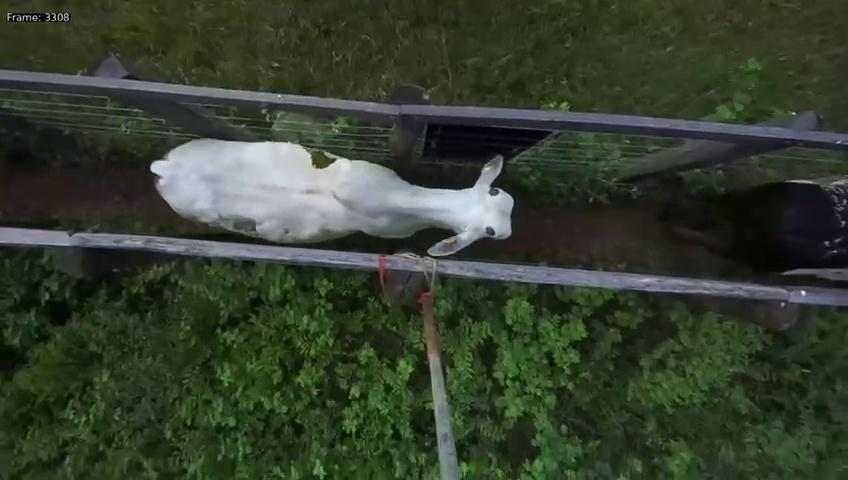cattle: (142, 130, 515, 263)
